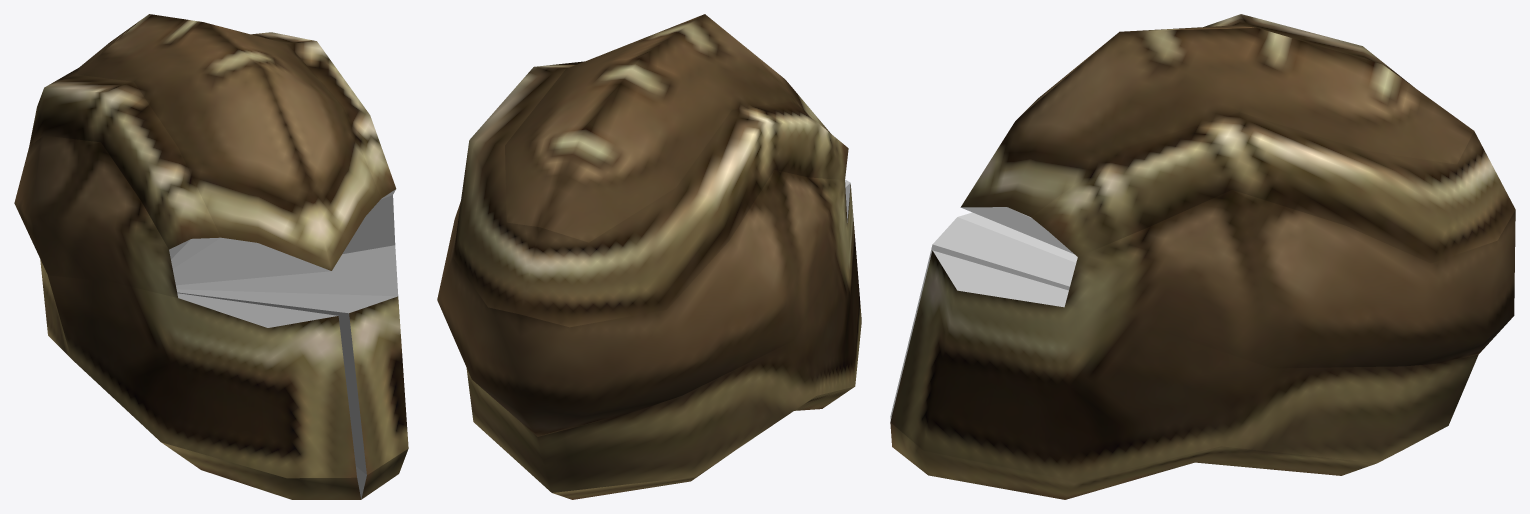
File: hvyleather_helm_drop.fbx
The picture shows the model from 3 angles, left to right: view 1: azimuth 30°, elevation 25°; view 2: azimuth 150°, elevation 25°; view 3: azimuth 270°, elevation 25°; orthographic projection. The views are drawn at different scales.
Visible parts, largest first — view 1: hvyleather_helm_drop-0; view 2: hvyleather_helm_drop-0; view 3: hvyleather_helm_drop-0.
Part boxes in pixels (x1=…): hvyleather_helm_drop-0: x1=14, y1=14, x2=408, y2=499; hvyleather_helm_drop-0: x1=437, y1=14, x2=861, y2=499; hvyleather_helm_drop-0: x1=890, y1=14, x2=1515, y2=499.
Bounding box in the file's own units: 0.2573 × 0.2955 × 0.3953.
